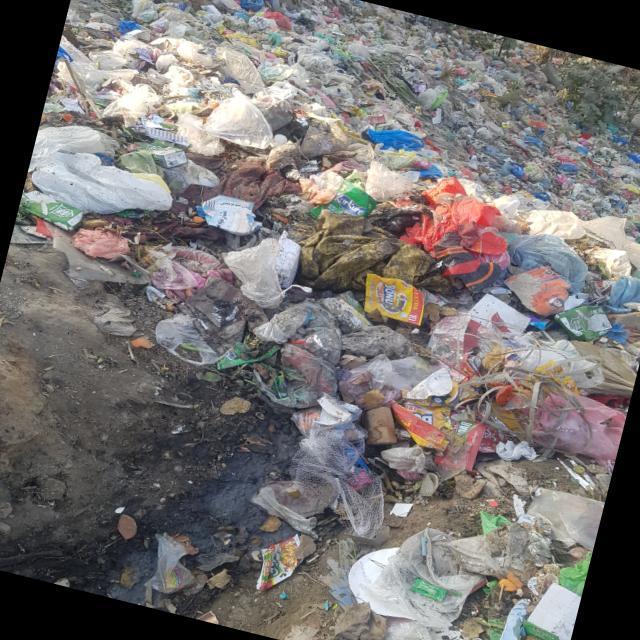electronic: (250, 524, 318, 601), (356, 270, 430, 328), (174, 602, 230, 626)
general: (21, 112, 203, 238), (389, 172, 526, 300)
